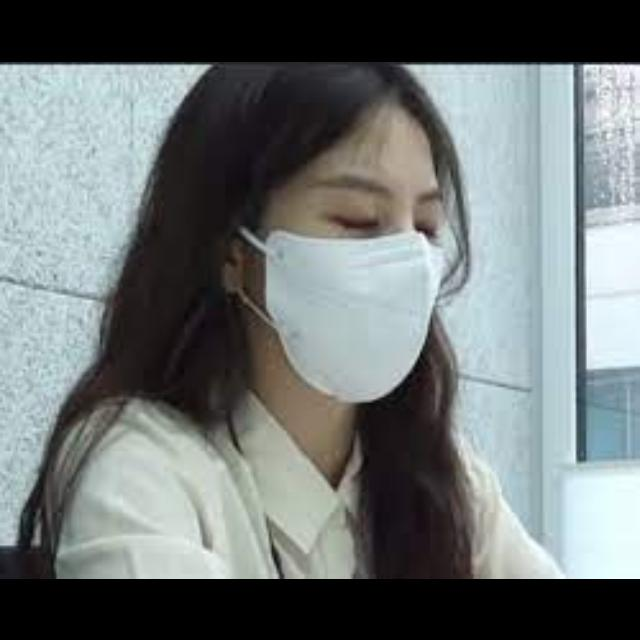masks: (216, 202, 458, 410)
